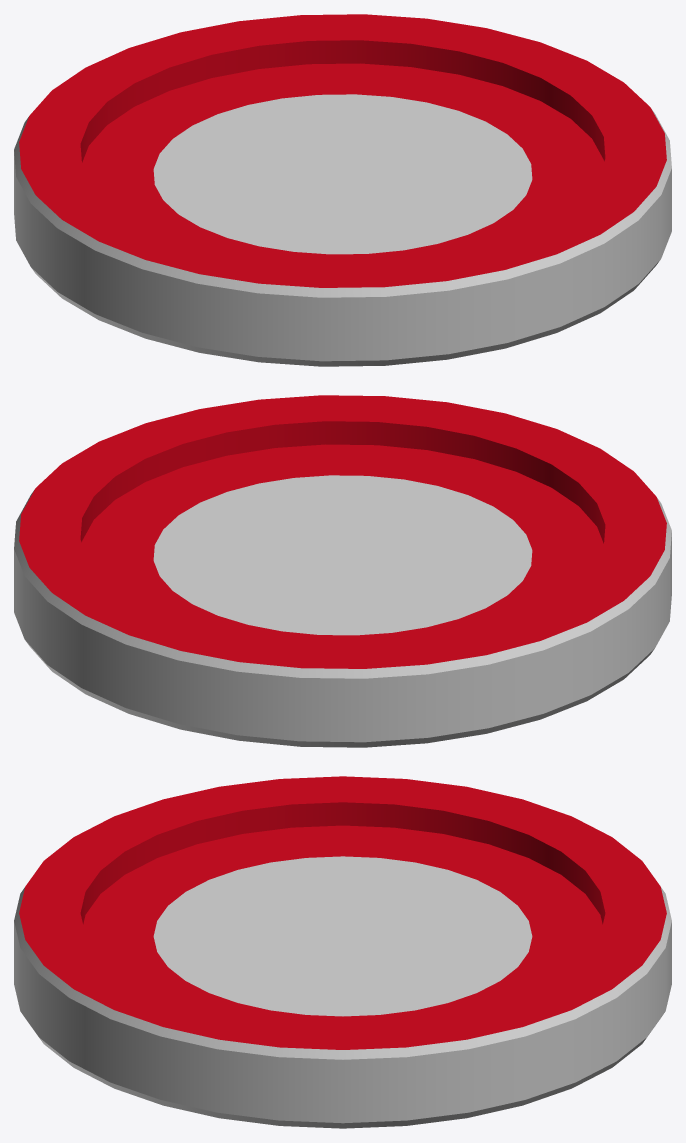
Rendered from Puck.fbx.
3 renders of one model, top to bottom at view 1: azimuth 30°, elevation 25°; view 2: azimuth 150°, elevation 25°; view 3: azimuth 270°, elevation 25°, orthographic.
Parts seen in each view (by area): view 1: Cylinder; view 2: Cylinder; view 3: Cylinder.
Part boxes in pixels (bbox=[...]): Cylinder: bbox=[14, 14, 671, 366]; Cylinder: bbox=[14, 395, 671, 747]; Cylinder: bbox=[14, 776, 671, 1128].
Size of the model in its own units: 45.86 by 6.04 by 45.86.
